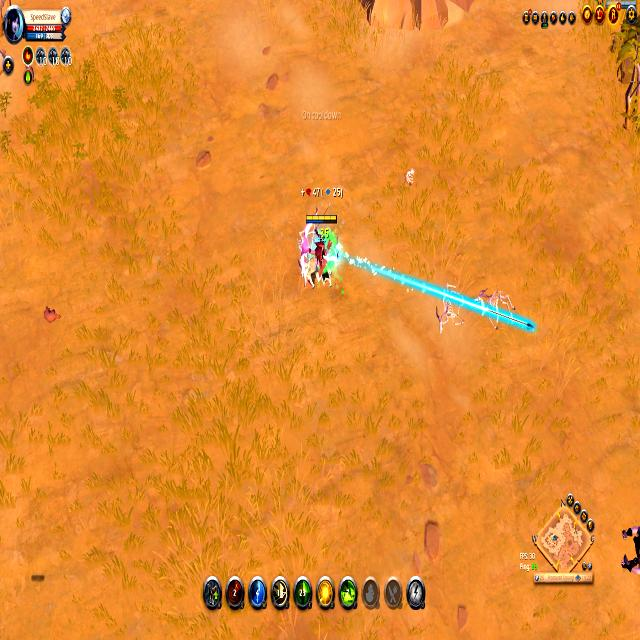ore: (300, 246, 339, 288), (620, 517, 640, 580)
red: (302, 211, 339, 286)
